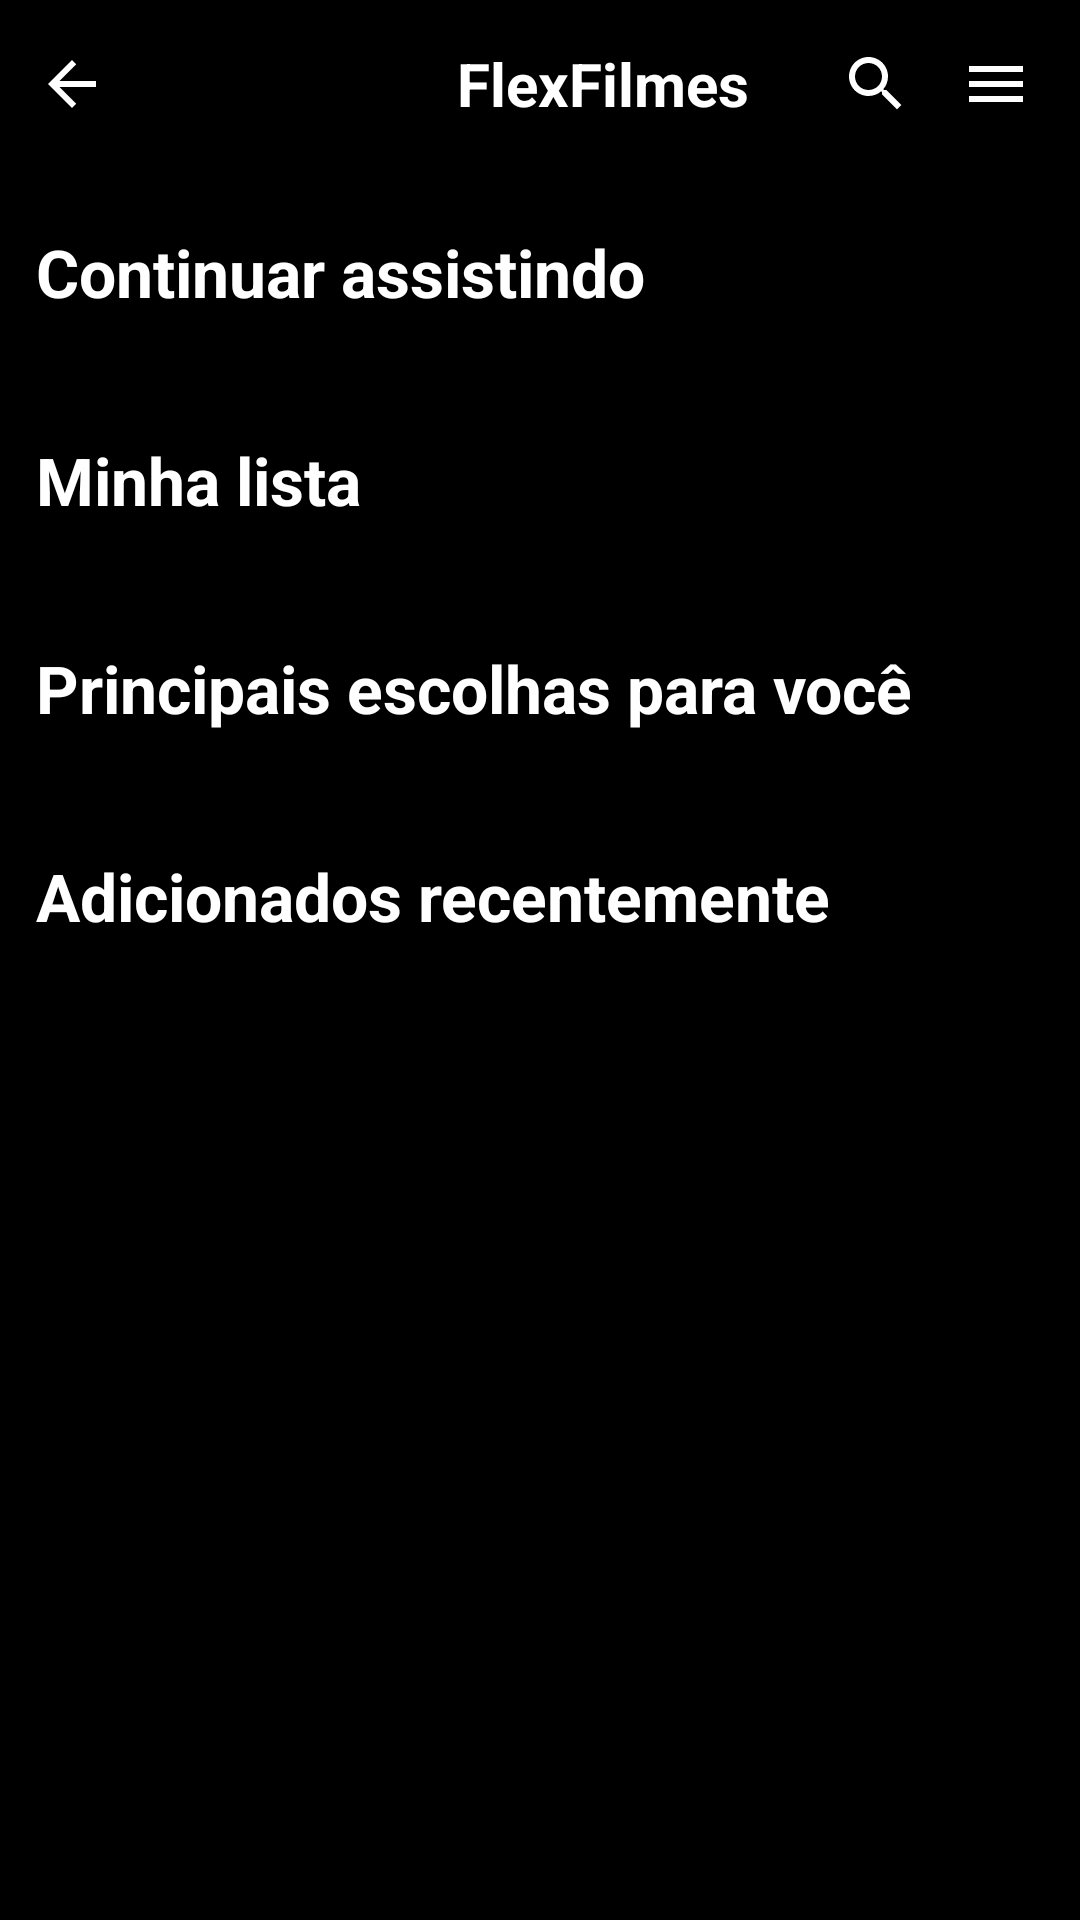

Icons on this 1080w x 1920h Android screen, each with the point to tap as (x,y):
Menu: (996,84)
Pesquisar: (875,83)
Voltar: (72,84)
